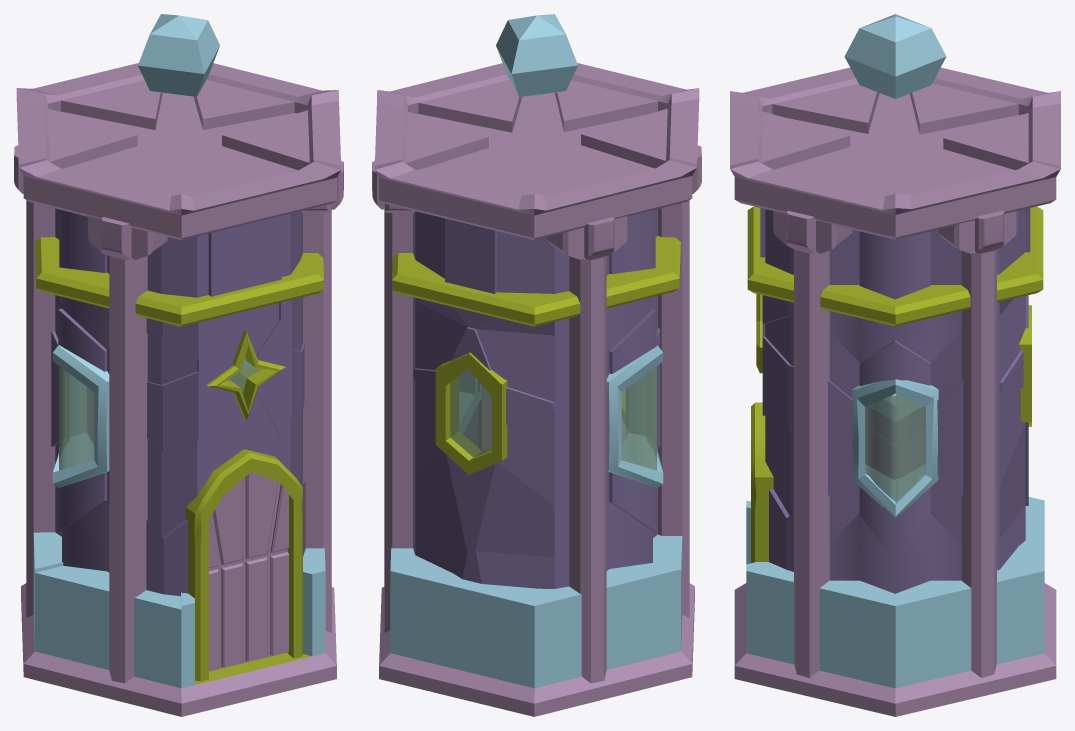
Rendered from NEWUpTower.fbx.
3 views of the same model, side by side, from view 1: azimuth 30°, elevation 25°; view 2: azimuth 150°, elevation 25°; view 3: azimuth 270°, elevation 25° (orthographic).
Parts seen in each view (by area): view 1: Cylinder, Top, pillars, Base, door, bannister, doorFrame, windowFrame, lesserOrb, Glass6, starFrame; view 2: Cylinder, Top, pillars, Base, bannister, windowFrame, lesserOrb, otherWinFrame, Glass6, Glass4; view 3: Cylinder, Top, Base, pillars, bannister, windowFrame, lesserOrb, Glass6, doorFrame, otherWinFrame, starFrame.
Boxes of the visible parts, x1=… form: Cylinder: x1=51, y1=208, x2=305, y2=596; Top: x1=16, y1=63, x2=341, y2=240; pillars: x1=14, y1=145, x2=343, y2=683; Base: x1=21, y1=532, x2=336, y2=716; door: x1=209, y1=472, x2=288, y2=671; bannister: x1=35, y1=237, x2=323, y2=326; doorFrame: x1=185, y1=449, x2=302, y2=681; windowFrame: x1=52, y1=345, x2=250, y2=487; lesserOrb: x1=138, y1=14, x2=219, y2=96; Glass6: x1=59, y1=366, x2=94, y2=470; starFrame: x1=206, y1=331, x2=285, y2=420; Cylinder: x1=413, y1=209, x2=660, y2=588; Top: x1=374, y1=63, x2=699, y2=240; pillars: x1=372, y1=145, x2=701, y2=683; Base: x1=379, y1=534, x2=694, y2=716; bannister: x1=392, y1=236, x2=680, y2=326; windowFrame: x1=459, y1=345, x2=663, y2=487; lesserOrb: x1=496, y1=14, x2=577, y2=96; otherWinFrame: x1=435, y1=352, x2=507, y2=474; Glass6: x1=621, y1=366, x2=656, y2=470; Glass4: x1=448, y1=360, x2=491, y2=457; Cylinder: x1=760, y1=208, x2=1030, y2=593; Top: x1=730, y1=67, x2=1060, y2=239; Base: x1=734, y1=479, x2=1056, y2=716; pillars: x1=773, y1=210, x2=1017, y2=677; bannister: x1=747, y1=206, x2=1043, y2=326; windowFrame: x1=852, y1=379, x2=938, y2=517; lesserOrb: x1=844, y1=14, x2=946, y2=98; Glass6: x1=865, y1=395, x2=925, y2=501; doorFrame: x1=751, y1=402, x2=773, y2=563; otherWinFrame: x1=1019, y1=305, x2=1031, y2=426; starFrame: x1=756, y1=294, x2=762, y2=373.
Bounding box in the file's own units: 298 × 557 × 267.
